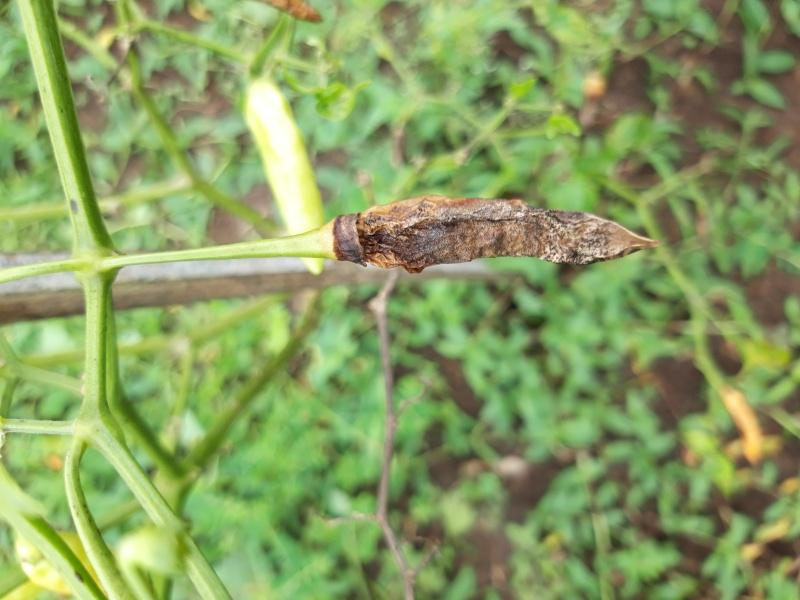antraknosa: (358, 194, 657, 272)
cabai_normal: (245, 79, 328, 276)
